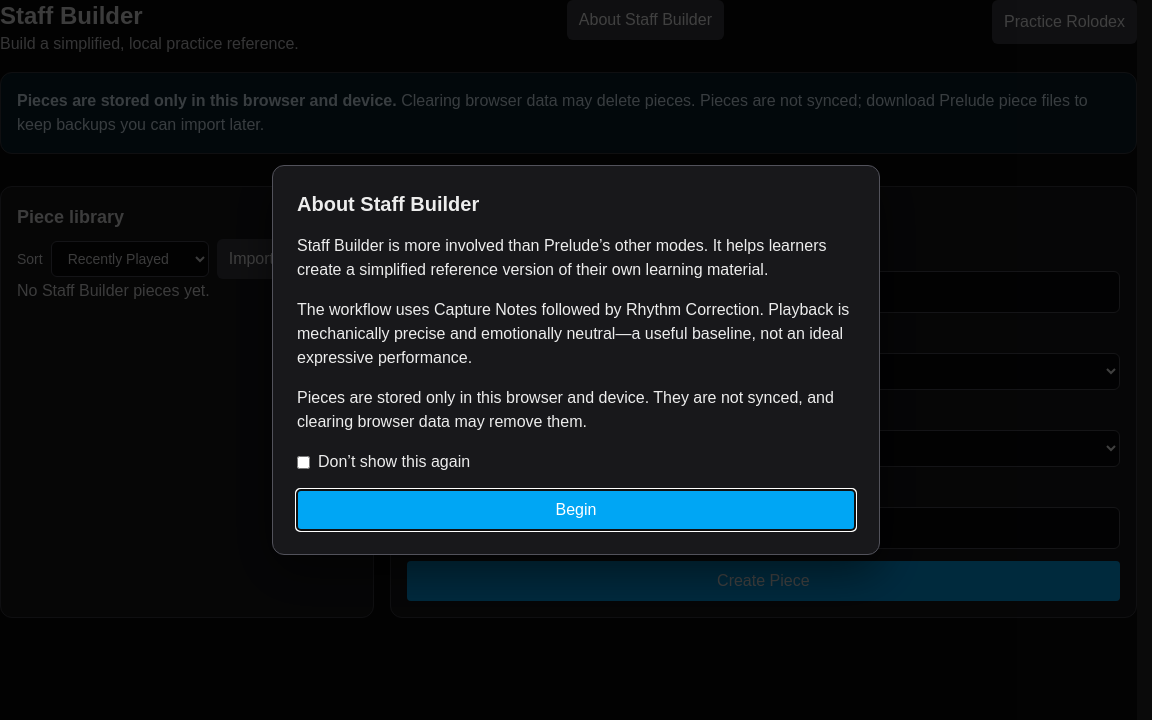
Scenario: Staff Builder session › shows, dismisses, persists, and reopens the introduction
The image size is (1152, 720).
Click the checkbox labelled "Don’t show this again" at (304, 462), box [297,456,310,468]
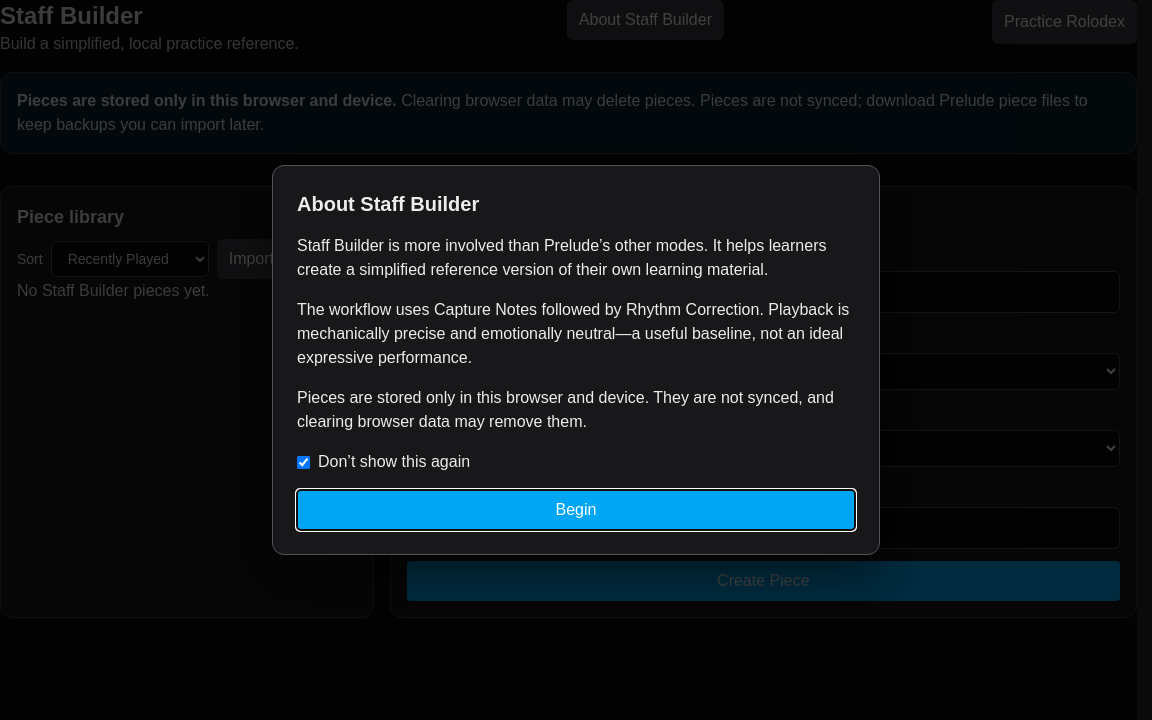
Click the button "Begin" at (576, 510), box [297,490,855,530]
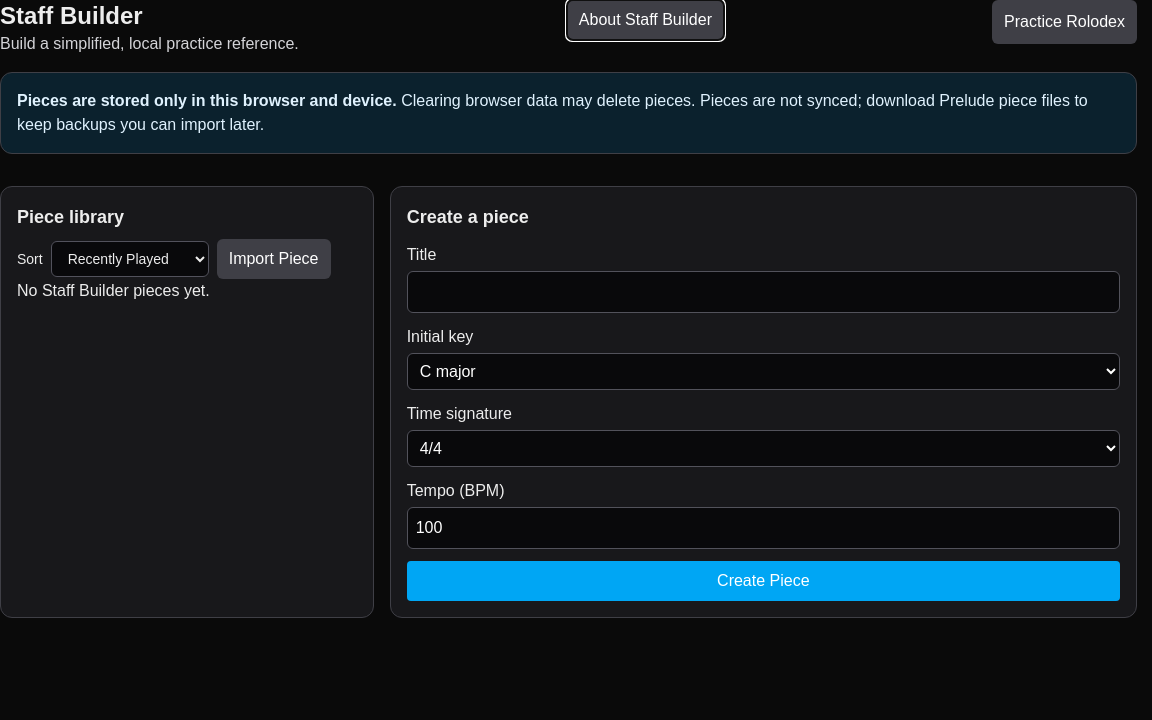
Result: the dialog is gone
Click the button "About Staff Builder" at (645, 20), box [567,0,724,40]
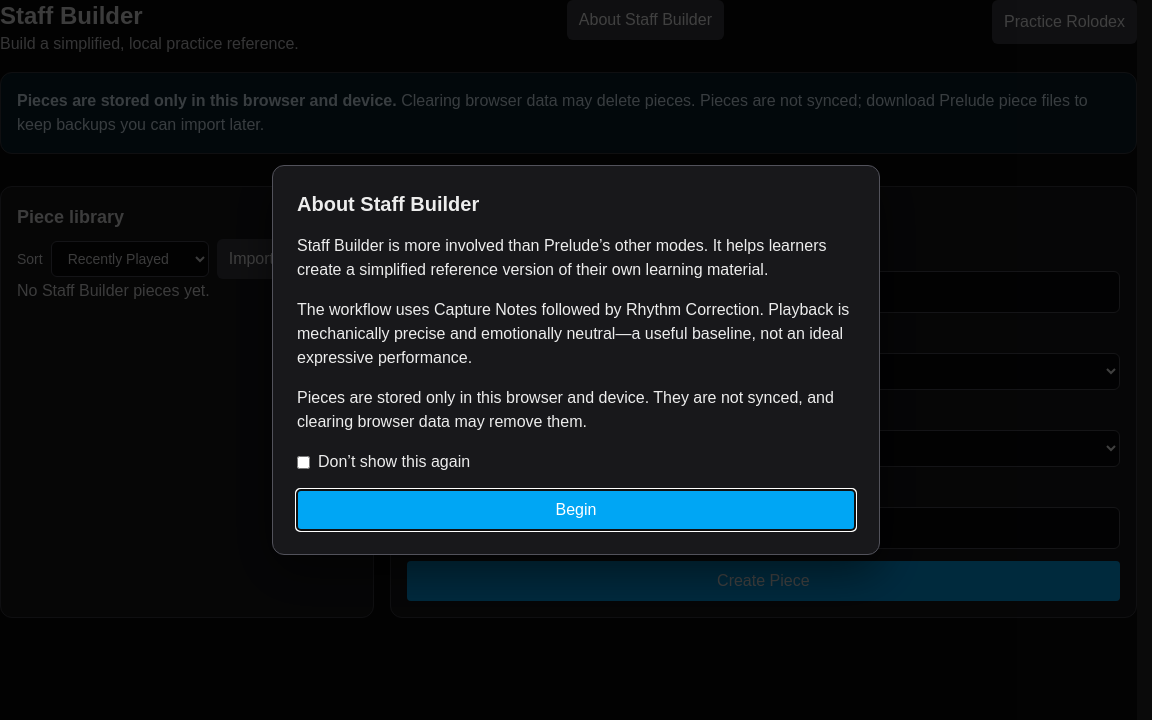
Result: the dialog "About Staff Builder" is shown
